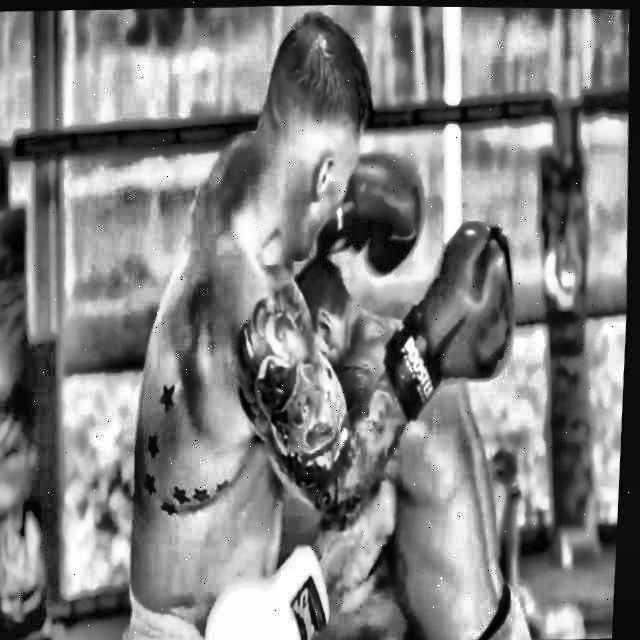punch: (192, 441, 438, 640)
